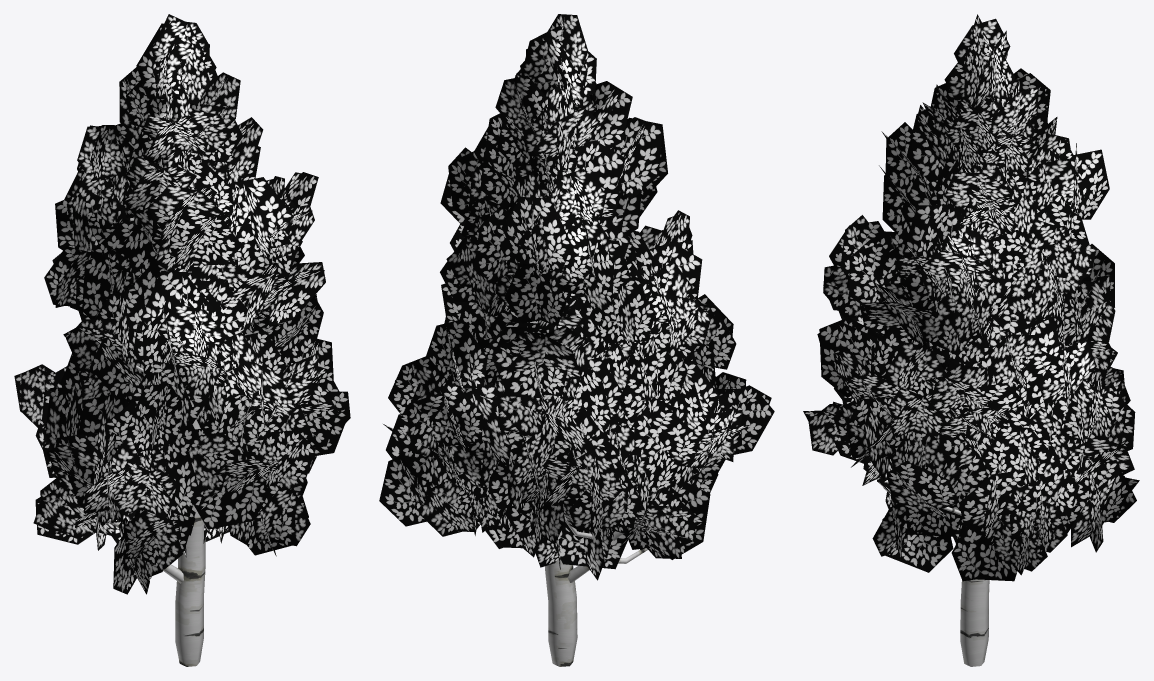
File: P_BirchTree3.obj
The picture shows the model from 3 angles, left to right: view 1: azimuth 30°, elevation 25°; view 2: azimuth 150°, elevation 25°; view 3: azimuth 270°, elevation 25°; orthographic projection.
Bounding box in the file's own units: 12.07 × 24.6 × 11.71.
